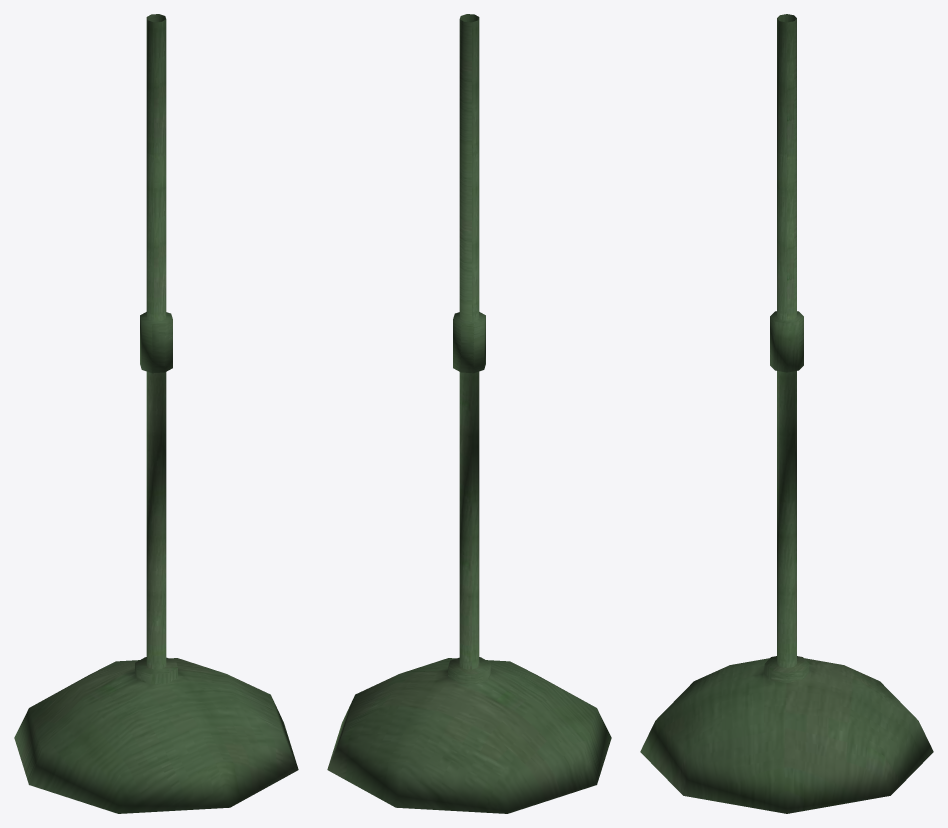
The model's file is weed_sprinkler.FBX.
3 renders of one model, left to right at view 1: azimuth 30°, elevation 25°; view 2: azimuth 150°, elevation 25°; view 3: azimuth 270°, elevation 25°, orthographic.
Parts seen in each view (by area): view 1: weed_sprinkler; view 2: weed_sprinkler; view 3: weed_sprinkler.
Part boxes in pixels (x1=…): weed_sprinkler: x1=14, y1=14, x2=298, y2=813; weed_sprinkler: x1=327, y1=14, x2=611, y2=813; weed_sprinkler: x1=640, y1=14, x2=933, y2=813.
Bounding box in the file's own units: 85.59 × 236 × 85.59.
